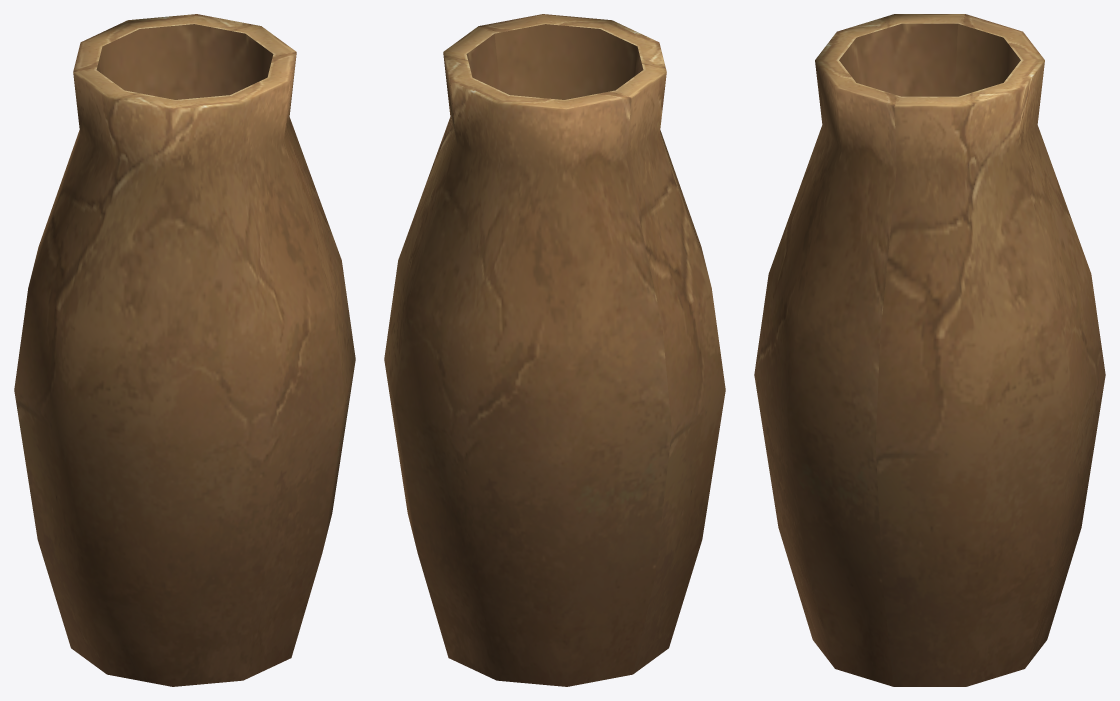
The model's file is Jug_03.FBX.
3 renders of one model, left to right at view 1: azimuth 30°, elevation 25°; view 2: azimuth 150°, elevation 25°; view 3: azimuth 270°, elevation 25°, orthographic.
Visible parts, largest first — view 1: Jug_03; view 2: Jug_03; view 3: Jug_03.
Part boxes in pixels (<box>): Jug_03: <box>14,14,355,686</box>; Jug_03: <box>384,14,725,686</box>; Jug_03: <box>754,14,1105,686</box>.
Size of the model in its own units: 38.12 by 40.09 by 72.96.
